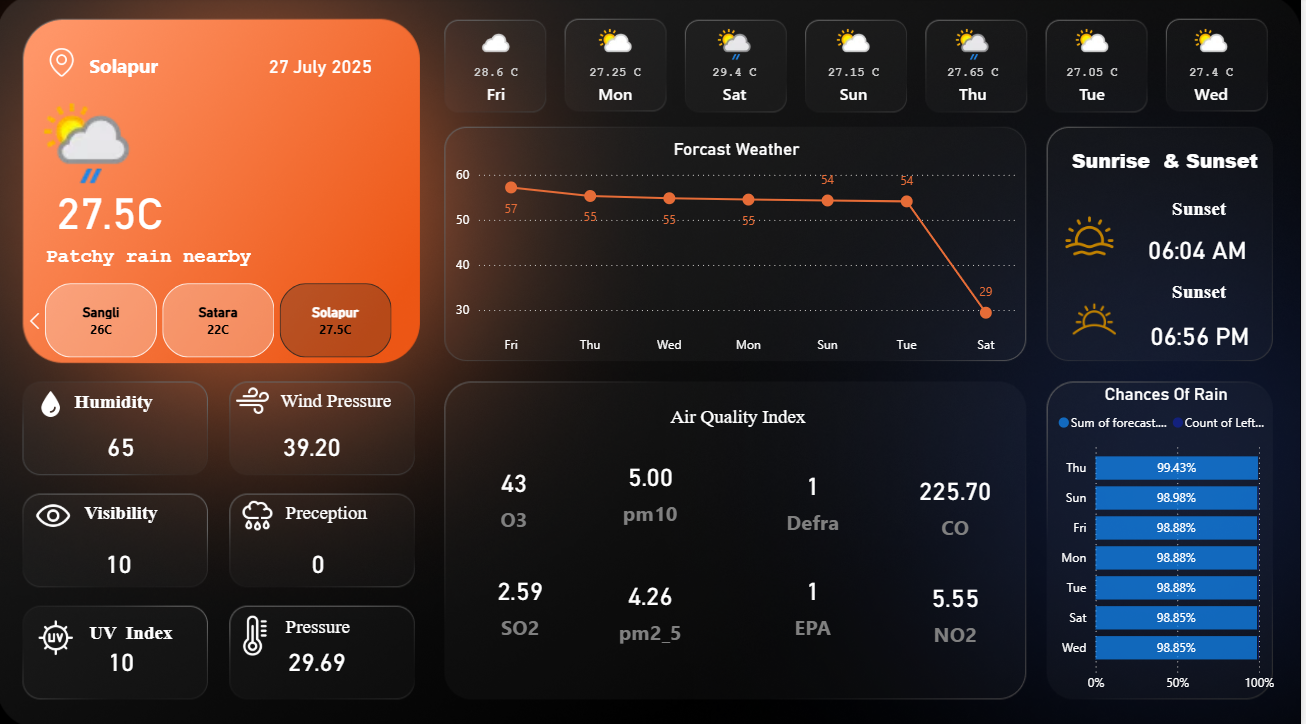

The page's visual inventory and layout, read from the dashboard file:
{"tool":"powerbi","page":{"name":"Page 1","canvas":[1280,720],"ordinal":0},"visuals":[{"type":"advancedSlicerVisual","fields":{"Values":["Location.location.name"]},"box":[21.6,275.6,391,83.7],"z":0},{"type":"card","fields":{"Values":["_Measures.Curr_Temp_c"]},"box":[40.8,181.2,138.7,53.9],"z":1000},{"type":"shape","box":[85.1,46.2,122.6,40.4],"z":2000},{"type":"image","box":[40.8,45.7,44.1,37.5],"z":3000},{"type":"shape","box":[21.6,235.2,389.5,40.4],"z":4000},{"type":"card","fields":{"Values":["_Measures.curr_updated_date"]},"box":[220.7,51.9,191.9,34.6],"z":5000},{"type":"cardVisual","fields":{"Data":["Min(Current.current.condition.icon)"]},"box":[21.2,73.5,158.3,135.5],"z":6000},{"type":"image","box":[21.2,381.9,62,35.9],"z":7000},{"type":"image","box":[26.1,484.8,57.1,49],"z":8000},{"type":"image","box":[226.9,373.8,45.7,44.1],"z":9000},{"type":"image","box":[231.8,484.8,45.7,49],"z":10000},{"type":"image","box":[31,605.6,52.2,45.7],"z":11000},{"type":"image","box":[226.9,602.3,50.6,49],"z":12000},{"type":"textbox","box":[80,491.3,156.7,42.4],"z":13000},{"type":"textbox","box":[70.2,381.9,156.7,39.2],"z":14000},{"type":"textbox","box":[272.6,380.3,156.7,42.4],"z":15000},{"type":"textbox","box":[84.9,608.8,137.1,42.4],"z":16000},{"type":"textbox","box":[277.5,491.3,156.7,42.4],"z":17000},{"type":"textbox","box":[277.5,602.3,156.7,42.4],"z":18000},{"type":"card","fields":{"Values":["Sum(Current.current.humidity)"]},"box":[93,417.9,55.5,45.7],"z":19000},{"type":"card","fields":{"Values":["Sum(Current.current.vis_km)"]},"box":[91.4,533.7,55.5,45.7],"z":20000},{"type":"card","fields":{"Values":["Sum(Current.current.precip_in)"]},"box":[279.1,533.7,71.8,45.7],"z":21000},{"type":"card","fields":{"Values":["Sum(Current.current.wind_kph)"]},"box":[272.6,417.9,71.8,45.7],"z":22000},{"type":"card","fields":{"Values":["Sum(Current.current.uv)"]},"box":[93,630.1,55.5,45.7],"z":23000},{"type":"card","fields":{"Values":["Sum(Current.current.pressure_in)"]},"box":[277.5,630.1,71.8,45.7],"z":24000},{"type":"advancedSlicerVisual","fields":{"Values":["Forcast_Day.Day_name"]},"box":[429.3,19.6,827.6,93],"z":25000},{"type":"lineChart","title":"Forcast Weather","fields":{"Y":["Sum(Forcast_Day.forecast.forecastday.day.avgtemp_c)"],"Category":["Forcast_Day.Day_name"]},"box":[434.2,124.1,576.2,235],"z":26000},{"type":"textbox","box":[1034.9,142,222,39.2],"z":27000},{"type":"card","fields":{"Values":["Min(Forcast_Day.Sunrise_Time)"]},"box":[1108.3,220.4,138.7,53.9],"z":28000},{"type":"card","fields":{"Values":["Min(Forcast_Day.Sunset_Time)"]},"box":[1109.9,305.2,138.7,53.9],"z":29000},{"type":"textbox","box":[1100.1,192.6,156.7,42.4],"z":30000},{"type":"textbox","box":[1100.1,274.2,156.7,42.4],"z":31000},{"type":"image","box":[1043,277.5,66.9,78.3],"z":32000},{"type":"image","box":[1043,204,57.1,62],"z":33000},{"type":"hundredPercentStackedBarChart","title":"Chances Of Rain","fields":{"Category":["Forcast_Day.Day_name"],"Y":["Sum(Forcast_Day.forecast.forecastday.day.daily_chance_of_rain)","CountNonNull(Current.Left_val_rain)"]},"box":[1035.7,379.6,222.3,312.7],"z":34000},{"type":"textbox","box":[470,395.8,512.9,42.9],"z":35000},{"type":"card","title":"Co","fields":{"Values":["Sum(Current.current.air_quality.co)"]},"box":[897.1,458.4,85.8,77.5],"z":36000},{"type":"card","title":"Co","fields":{"Values":["Sum(Current.current.air_quality.no2)"]},"box":[897.1,564,85.8,77.5],"z":37000},{"type":"card","title":"Co","fields":{"Values":["Sum(Current.current.air_quality.so2)"]},"box":[470,557.4,85.8,77.5],"z":38000},{"type":"card","title":"Co","fields":{"Values":["Sum(Current.current.air_quality.o3)"]},"box":[463.4,451.8,85.8,77.5],"z":39000},{"type":"card","title":"Co","fields":{"Values":["Sum(Current.current.air_quality.gb-defra-index)"]},"box":[756.9,453.5,85.8,77.5],"z":40000},{"type":"card","title":"Co","fields":{"Values":["Sum(Current.current.air_quality.pm10)"]},"box":[597,445.3,85.8,77.5],"z":41000},{"type":"card","title":"Co","fields":{"Values":["Sum(Current.current.air_quality.pm2_5)"]},"box":[597,562.3,85.8,77.5],"z":42000},{"type":"card","title":"Co","fields":{"Values":["Sum(Current.current.air_quality.us-epa-index)"]},"box":[756.9,557.4,85.8,77.5],"z":43000}]}

Visuals, with their boxes in screenshot pixels (x1, y1, x2, y2), scaled from the page's 1280x720 canvas onto the 1306x724 screenshot:
advancedSlicerVisual - Location.location.name: select_region(22, 277, 421, 361)
card - _Measures.Curr_Temp_c: select_region(42, 182, 183, 236)
shape: select_region(87, 46, 212, 87)
image: select_region(42, 46, 87, 84)
shape: select_region(22, 237, 419, 277)
card - _Measures.curr_updated_date: select_region(225, 52, 421, 87)
cardVisual - Min(Current.current.condition.icon): select_region(22, 74, 183, 210)
image: select_region(22, 384, 85, 420)
image: select_region(27, 487, 85, 537)
image: select_region(232, 376, 278, 420)
image: select_region(237, 487, 283, 537)
image: select_region(32, 609, 85, 655)
image: select_region(232, 606, 283, 655)
textbox: select_region(82, 494, 242, 537)
textbox: select_region(72, 384, 232, 423)
textbox: select_region(278, 382, 438, 425)
textbox: select_region(87, 612, 227, 655)
textbox: select_region(283, 494, 443, 537)
textbox: select_region(283, 606, 443, 648)
card - Sum(Current.current.humidity): select_region(95, 420, 152, 466)
card - Sum(Current.current.vis_km): select_region(93, 537, 150, 583)
card - Sum(Current.current.precip_in): select_region(285, 537, 358, 583)
card - Sum(Current.current.wind_kph): select_region(278, 420, 351, 466)
card - Sum(Current.current.uv): select_region(95, 634, 152, 680)
card - Sum(Current.current.pressure_in): select_region(283, 634, 356, 680)
advancedSlicerVisual - Forcast_Day.Day_name: select_region(438, 20, 1282, 113)
"Forcast Weather" lineChart: select_region(443, 125, 1031, 361)
textbox: select_region(1056, 143, 1282, 182)
card - Min(Forcast_Day.Sunrise_Time): select_region(1131, 222, 1272, 276)
card - Min(Forcast_Day.Sunset_Time): select_region(1132, 307, 1274, 361)
textbox: select_region(1122, 194, 1282, 236)
textbox: select_region(1122, 276, 1282, 318)
image: select_region(1064, 279, 1132, 358)
image: select_region(1064, 205, 1122, 267)
"Chances Of Rain" hundredPercentStackedBarChart: select_region(1057, 382, 1284, 696)
textbox: select_region(480, 398, 1003, 441)
"Co" card: select_region(915, 461, 1003, 539)
"Co" card: select_region(915, 567, 1003, 645)
"Co" card: select_region(480, 560, 567, 638)
"Co" card: select_region(473, 454, 560, 532)
"Co" card: select_region(772, 456, 860, 534)
"Co" card: select_region(609, 448, 697, 526)
"Co" card: select_region(609, 565, 697, 643)
"Co" card: select_region(772, 560, 860, 638)
